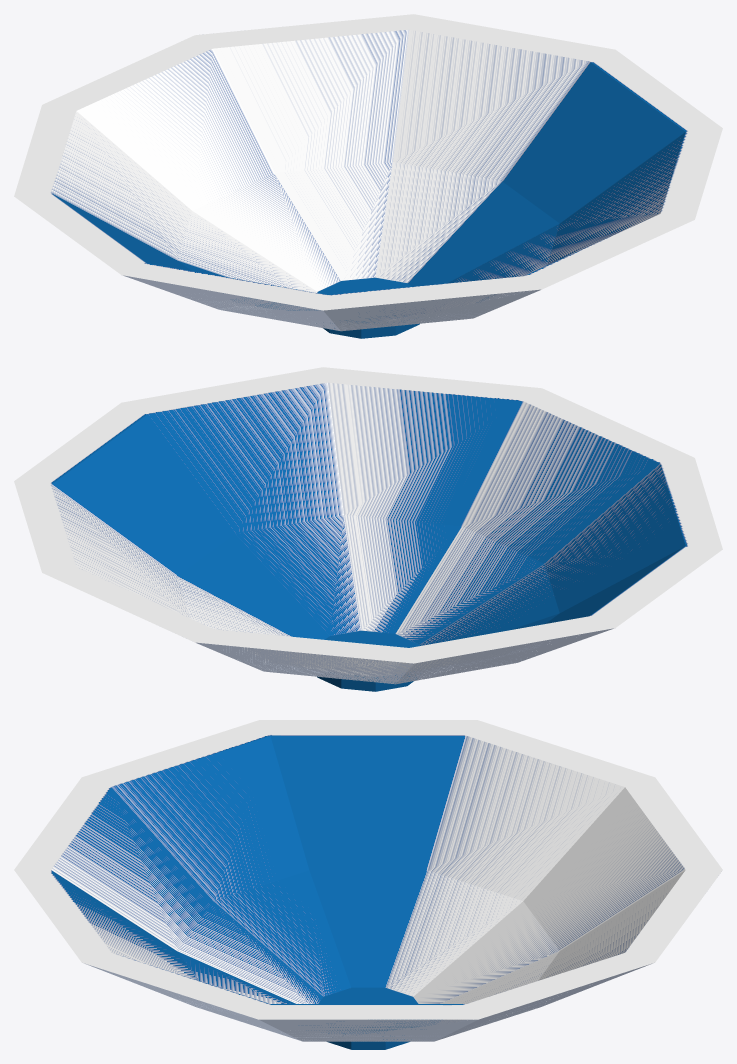
File: Bowl.fbx
3 renders of one model, top to bottom at view 1: azimuth 30°, elevation 25°; view 2: azimuth 150°, elevation 25°; view 3: azimuth 270°, elevation 25°, orthographic. The views are drawn at different scales.
Parts seen in each view (by area): view 1: Bowl; view 2: Bowl; view 3: Bowl.
Part boxes in pixels (x1,y1,x2,y2): Bowl: (14,14,722,338); Bowl: (14,367,722,691); Bowl: (14,720,722,1049).
Size of the model in its own units: 63.78 by 63.78 by 15.52.
